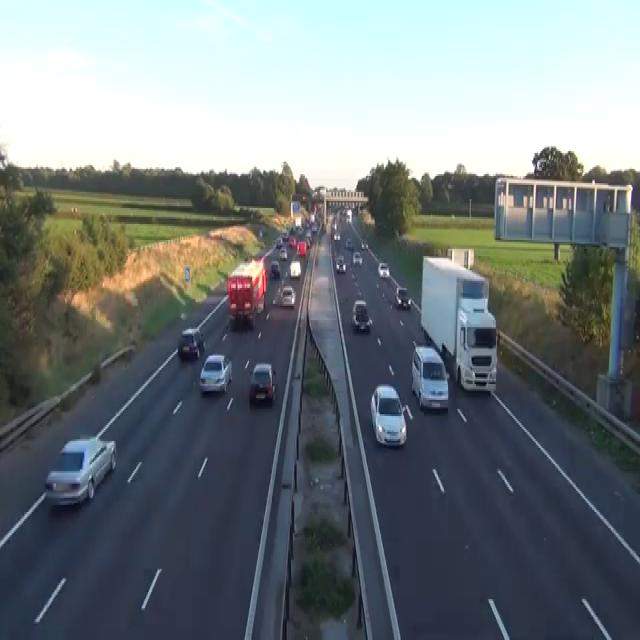Car: (45, 436, 116, 506), (410, 341, 449, 411), (370, 384, 407, 446), (199, 352, 232, 395), (249, 362, 276, 403), (177, 327, 205, 359), (351, 298, 372, 332), (395, 284, 411, 310), (279, 284, 295, 308), (352, 298, 367, 316), (335, 254, 346, 274), (289, 260, 301, 278), (270, 260, 280, 278), (378, 262, 389, 278), (296, 240, 307, 256), (352, 250, 362, 266), (281, 268, 289, 284), (278, 246, 287, 260), (344, 236, 353, 249), (305, 229, 312, 242), (360, 240, 368, 251), (289, 235, 296, 247), (275, 237, 282, 247), (282, 229, 288, 240), (333, 233, 340, 242), (392, 228, 399, 236), (297, 226, 304, 234), (311, 224, 317, 233), (305, 237, 310, 247), (258, 228, 262, 238)
Truck: (420, 254, 497, 395), (226, 256, 266, 331)
